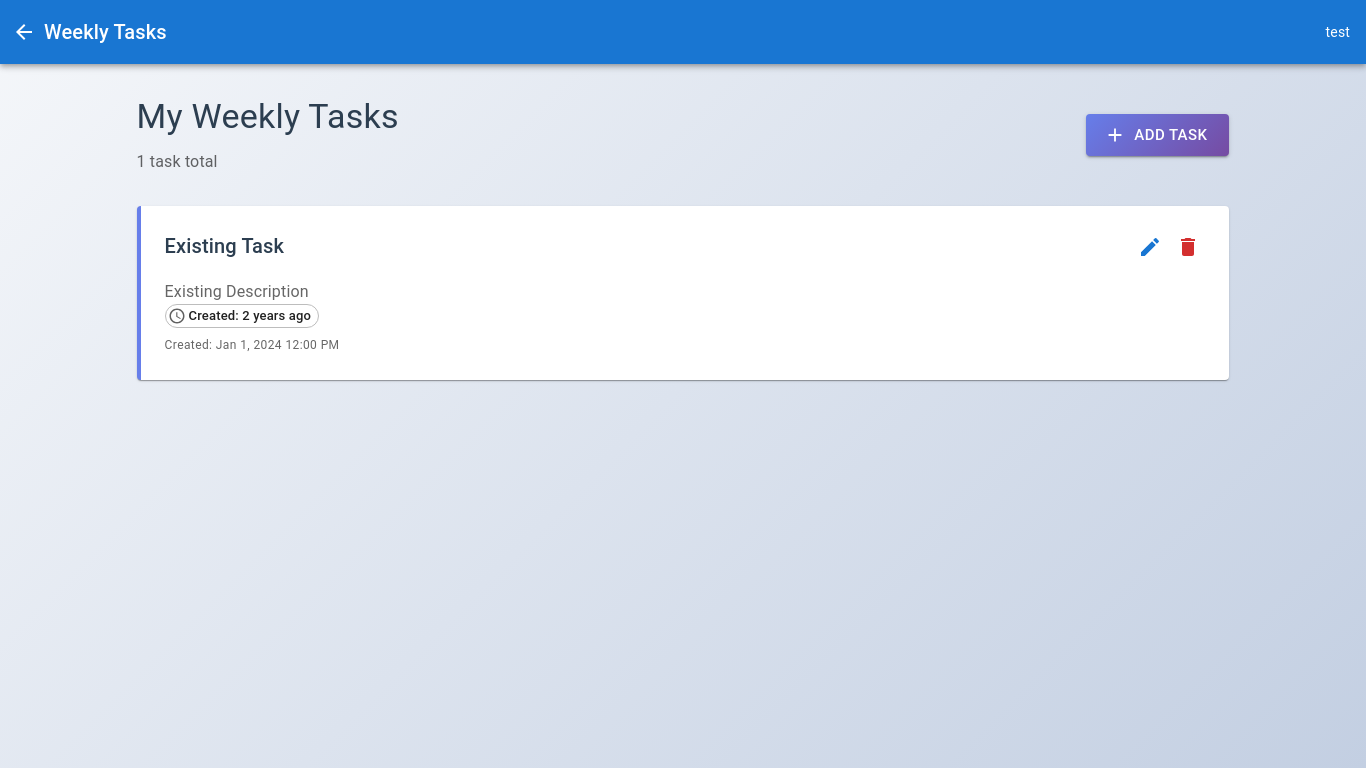
Scenario: TaskListPage › should open edit dialog when edit button is clicked
The width and height of the screenshot is (1366, 768).
Click the button with test id "EditIcon": [1150, 247] box [1133,230,1167,264]
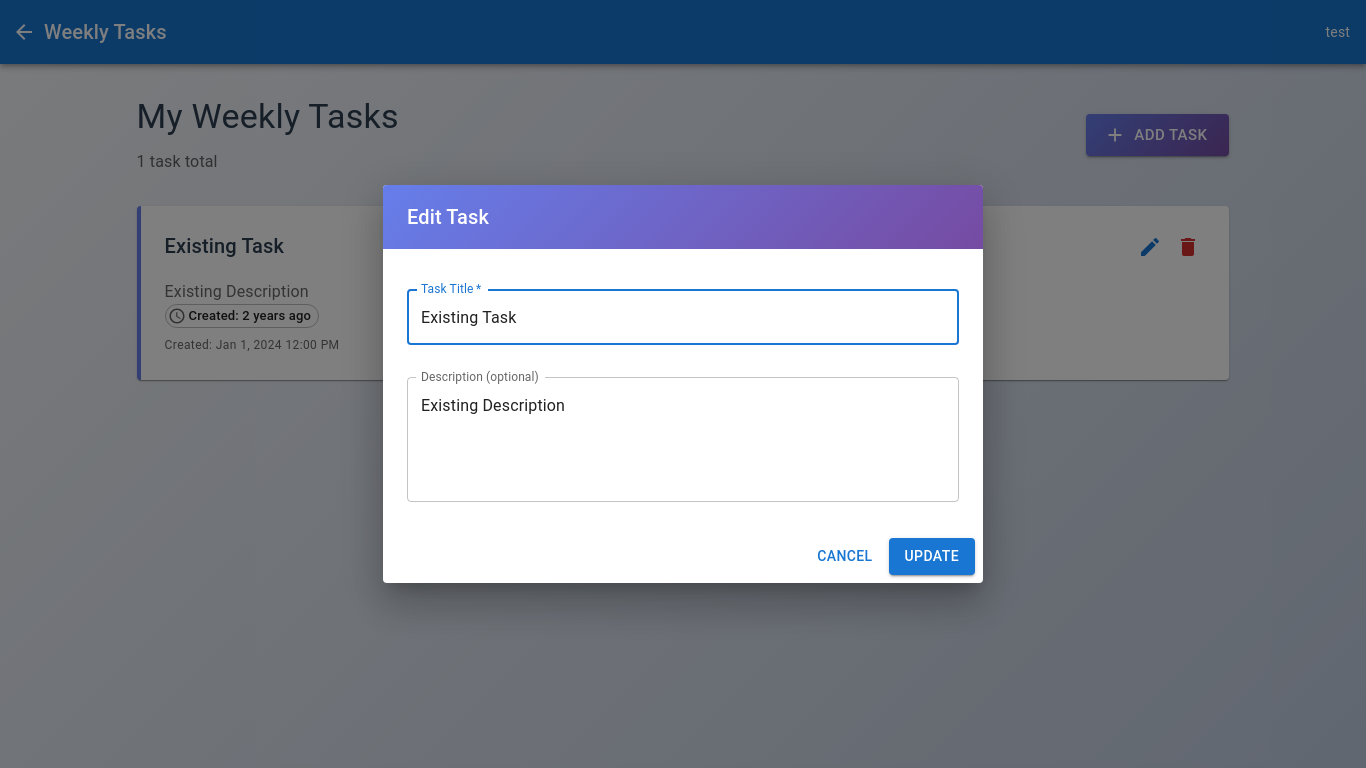
expect the field showing "Existing Task" is shown: met, box [407,289,959,345]
expect the text box showing "Existing Description" is shown: met, box [421,394,945,486]
